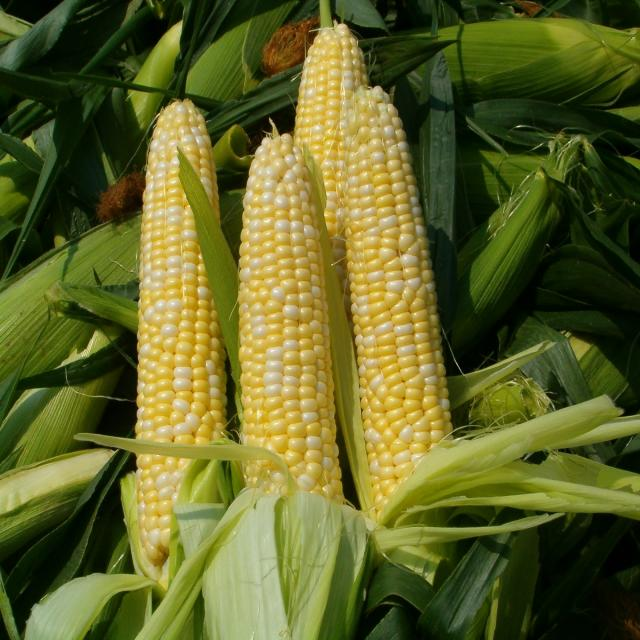corn: (338, 91, 452, 458), (235, 131, 331, 493), (137, 95, 219, 460), (296, 21, 358, 138), (135, 451, 176, 559)
